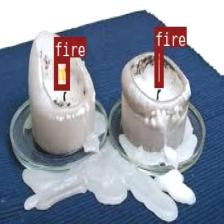fire: (53, 57, 69, 88), (154, 46, 163, 86)
